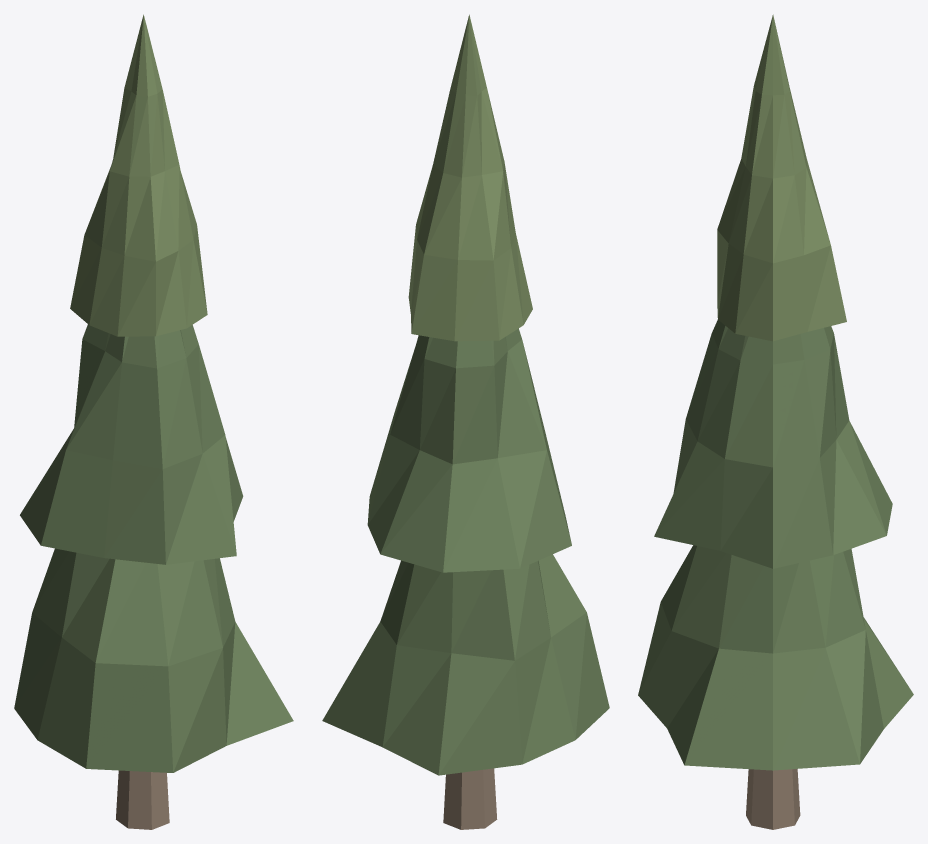
File: cypress.gltf
3 views of the same model, side by side, from view 1: azimuth 30°, elevation 25°; view 2: azimuth 150°, elevation 25°; view 3: azimuth 270°, elevation 25° (orthographic).
Parts seen in each view (by area): view 1: cypress; view 2: cypress; view 3: cypress.
Part boxes in pixels (x1,y1,x2,y2): cypress: (14,14,293,829); cypress: (322,14,609,829); cypress: (638,14,913,829).
Bounding box in the file's own units: 1.56 × 5.4 × 1.68.
